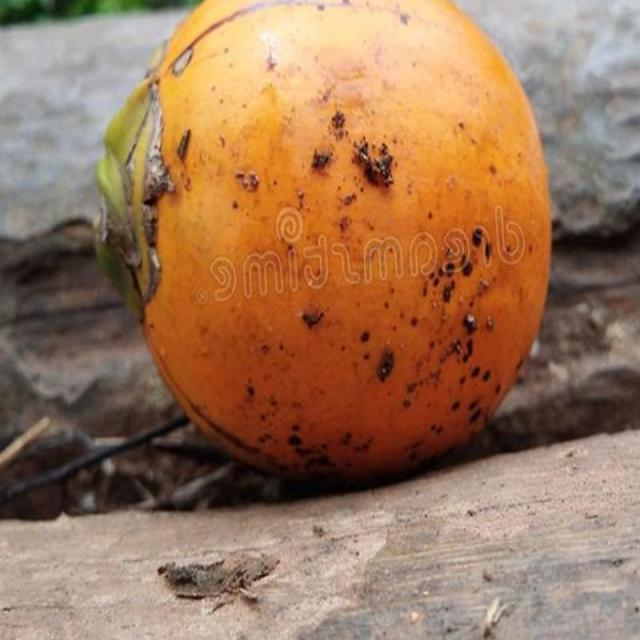good: (95, 0, 551, 477)
